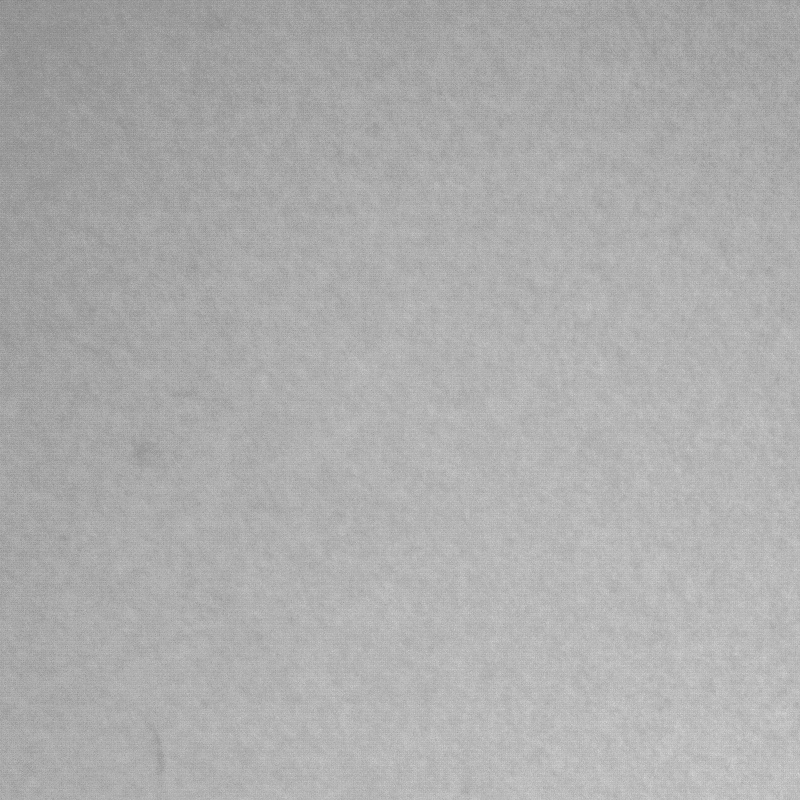defect: (140, 709, 171, 783)
